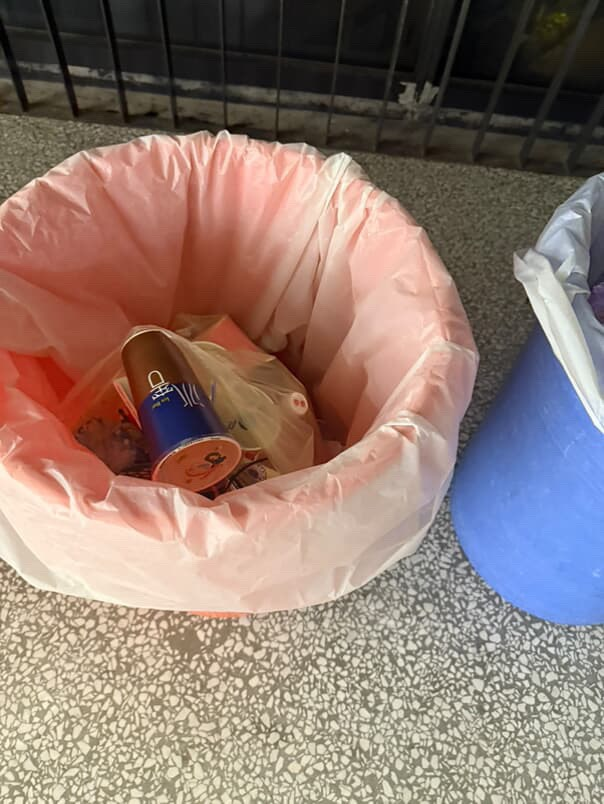normal_bin: (13, 121, 477, 613)
